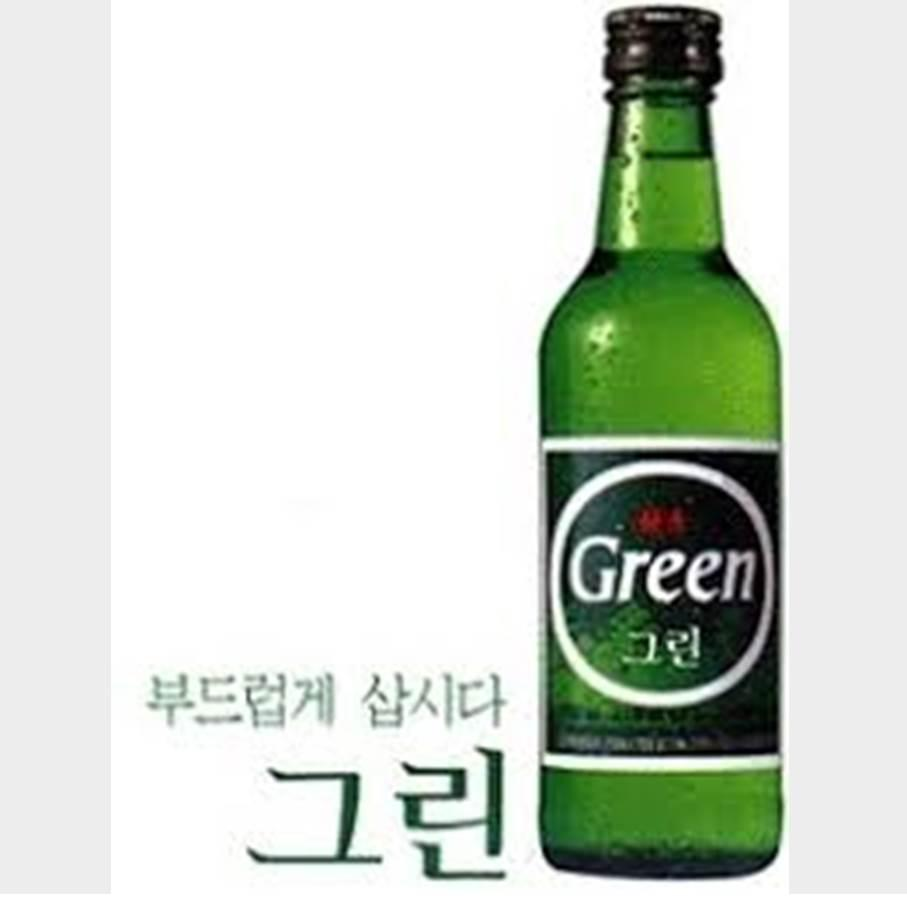soju: (538, 1, 788, 878)
